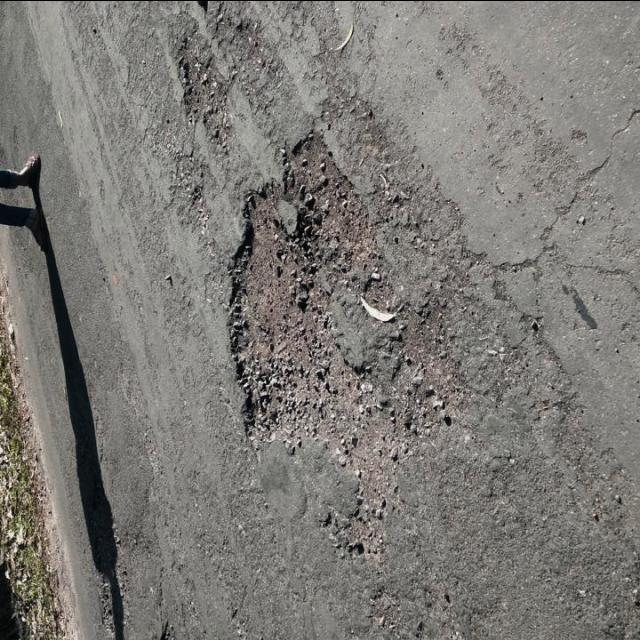pothole: (190, 136, 406, 440), (168, 4, 253, 141)
